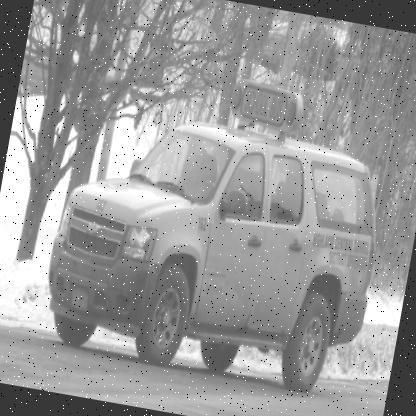Car: (35, 52, 401, 402)
